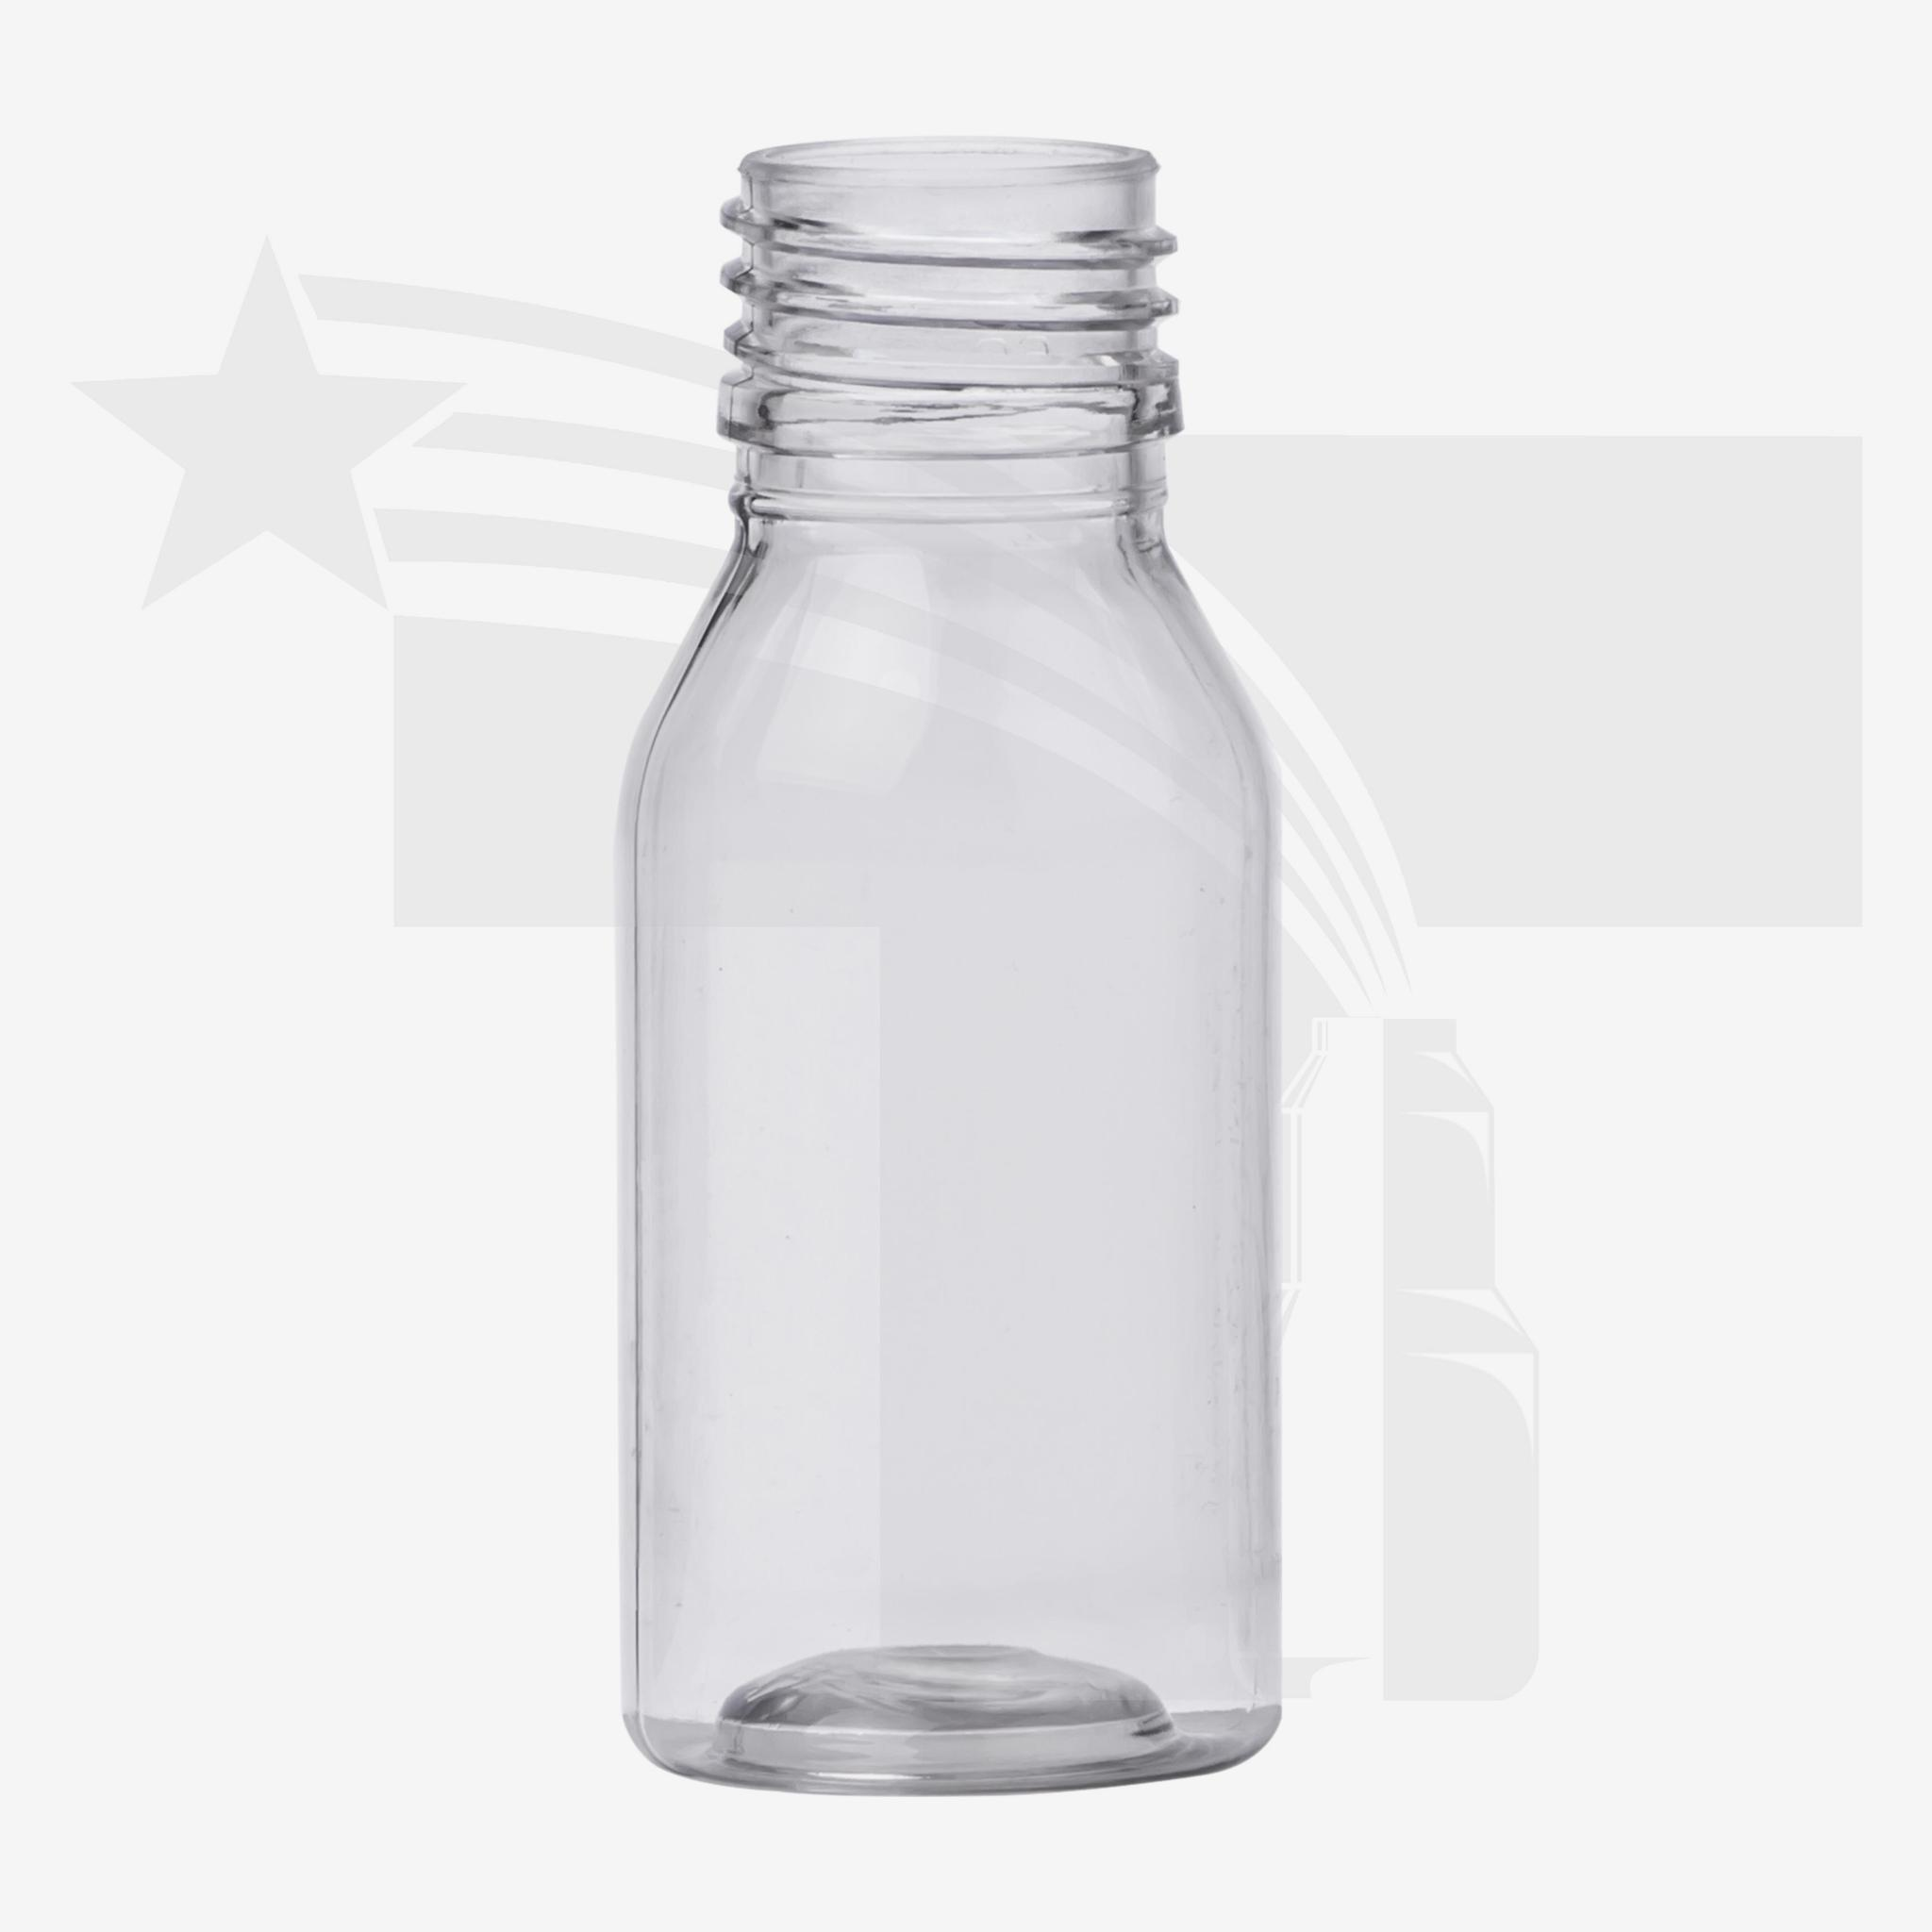bottle: (577, 122, 1332, 1824)
